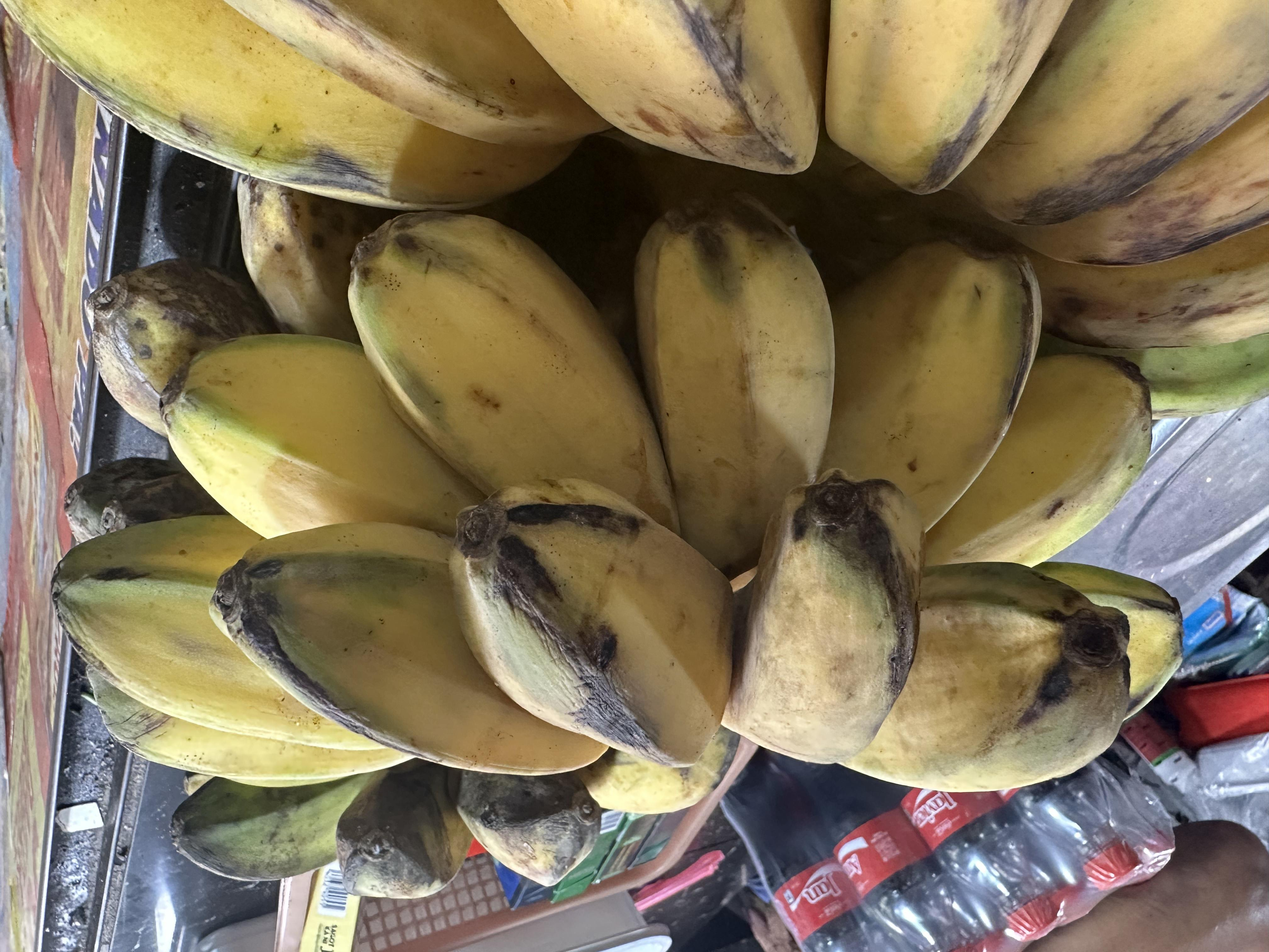ripe: (4, 0, 1269, 349)
underripe: (53, 193, 1182, 790), (171, 726, 740, 898)
